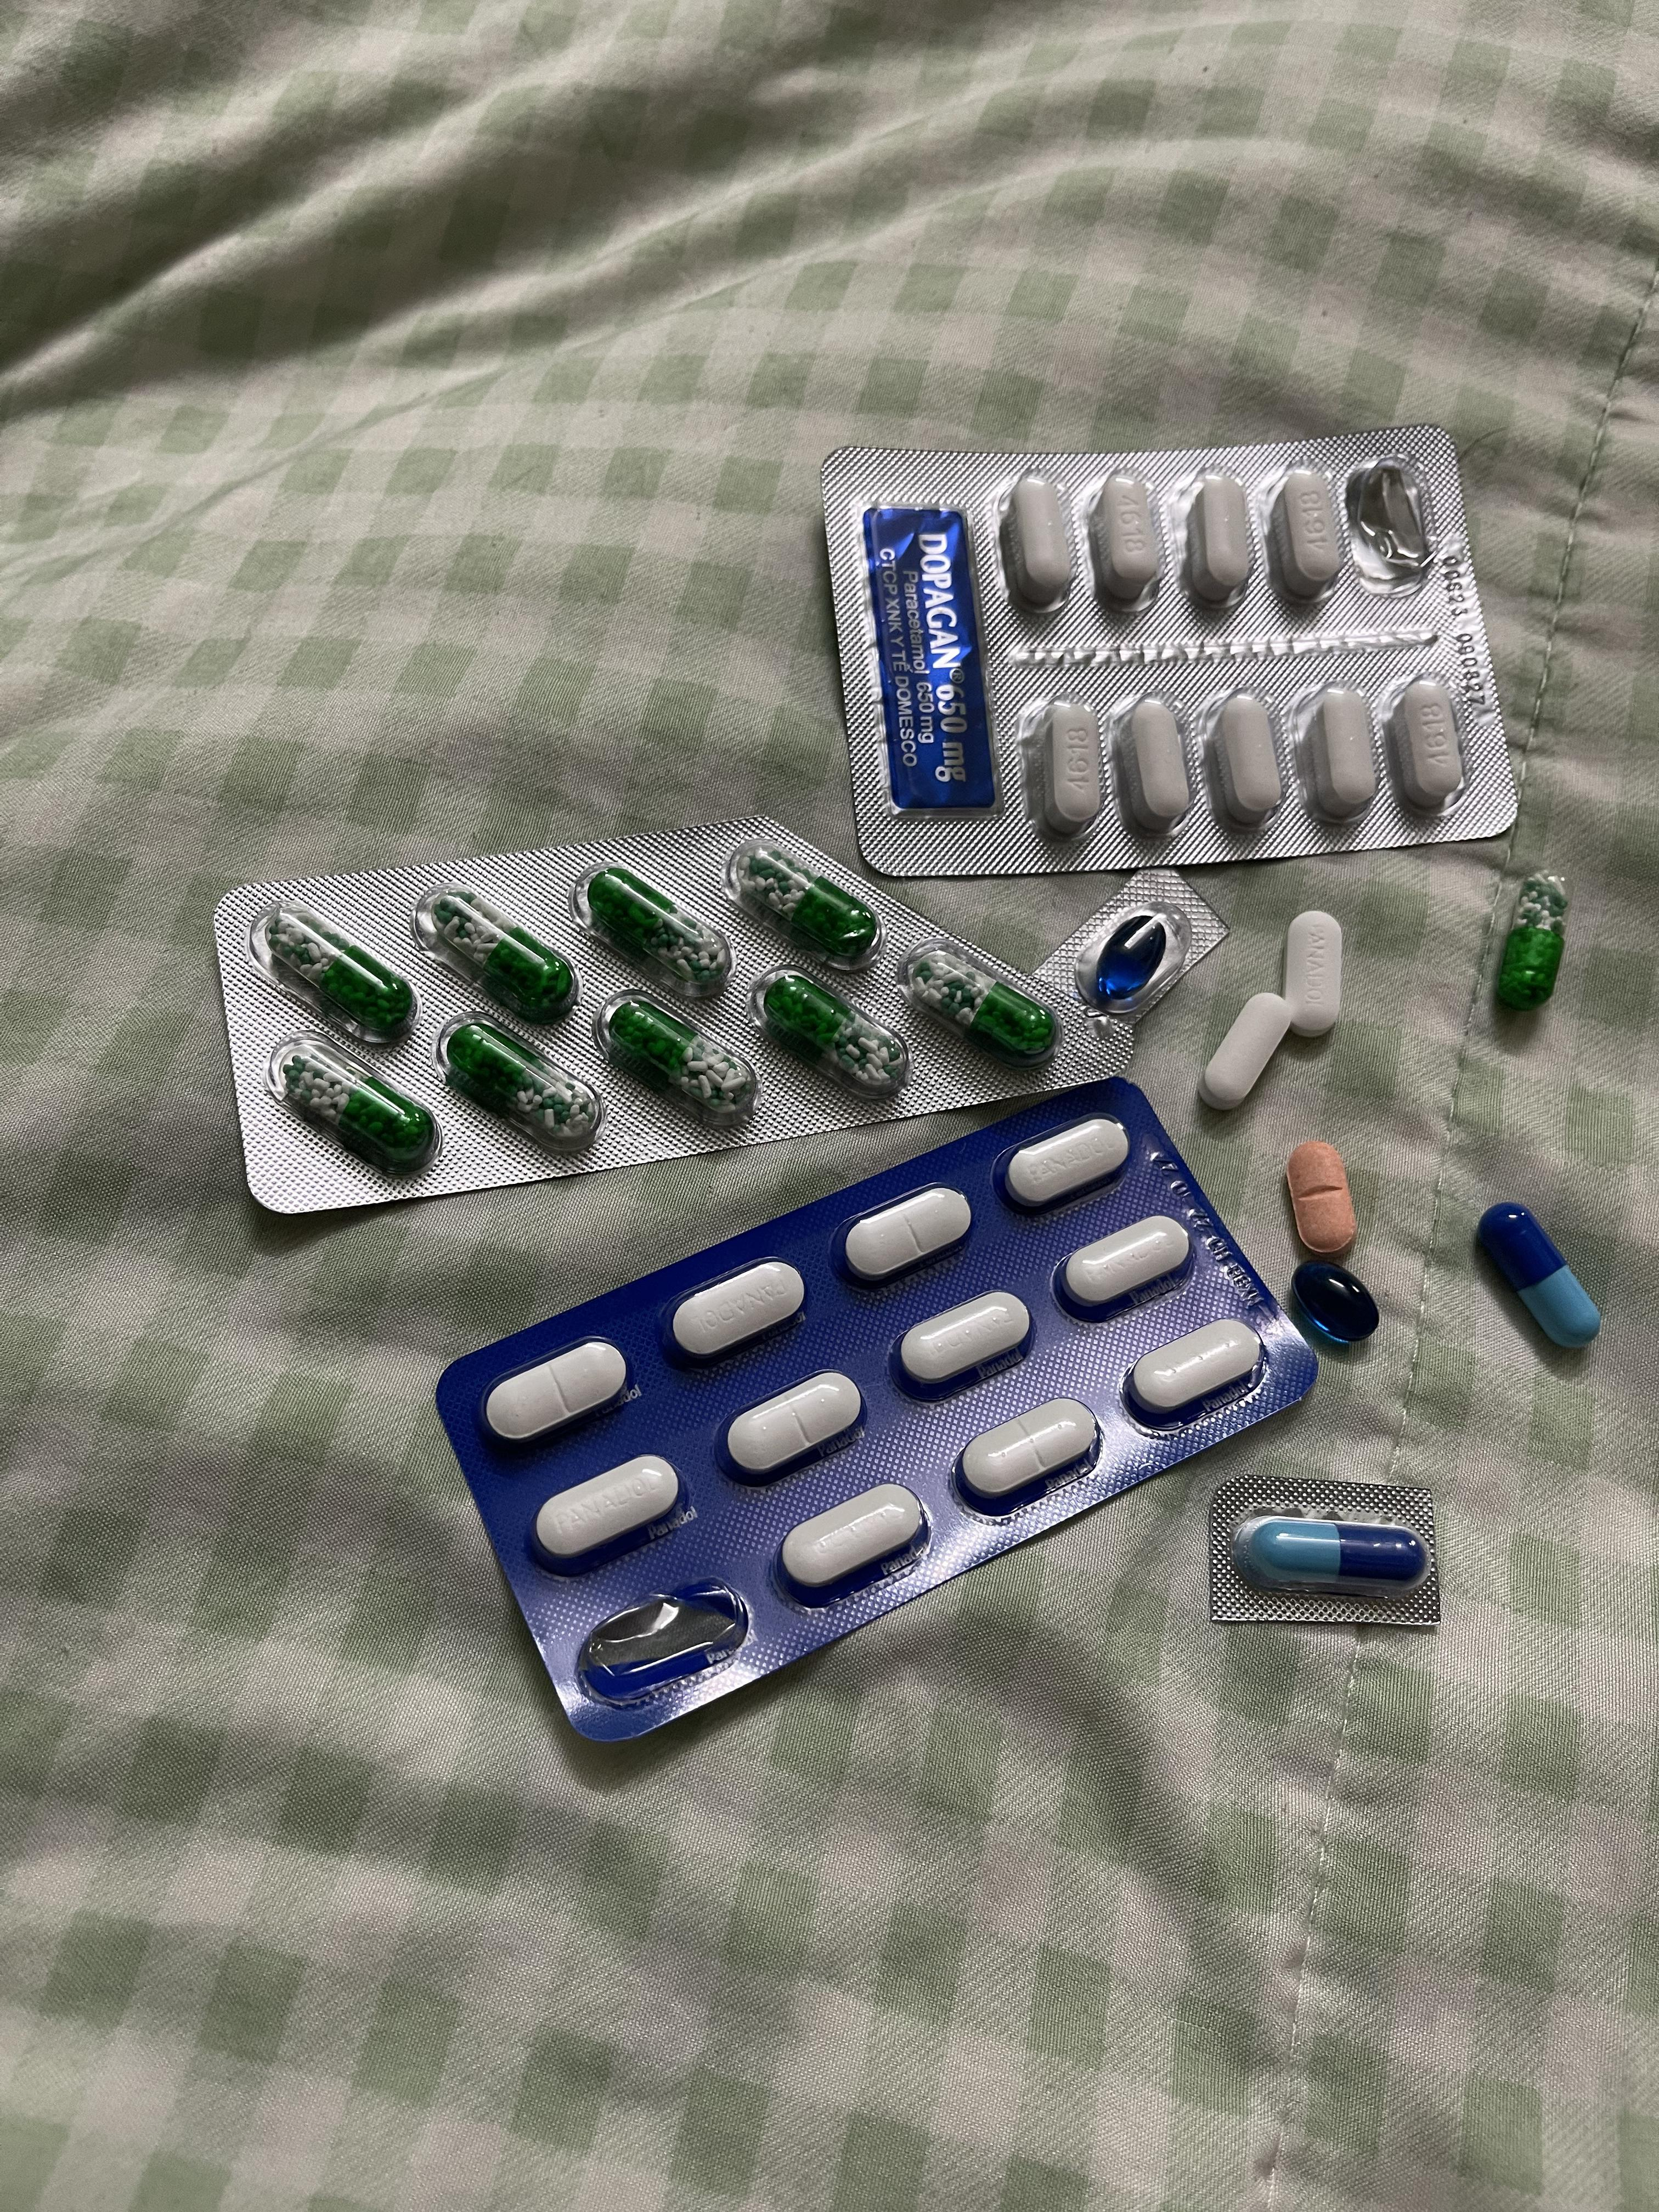Lincomyxin_500mg: (1291, 1259, 1384, 1345), (1096, 911, 1171, 1000)
Loratadine_10mg: (1286, 1144, 1361, 1256)
Paracetamol_350mg: (533, 1456, 687, 1571), (481, 1339, 629, 1451), (779, 1486, 922, 1594), (725, 1371, 863, 1480), (958, 1404, 1096, 1510), (669, 1259, 807, 1364), (897, 1289, 1033, 1392), (1126, 1317, 1262, 1416), (843, 1183, 972, 1285), (1054, 1214, 1185, 1313), (1000, 1115, 1126, 1209), (1283, 909, 1345, 1038)
Paracetamol_500mg: (1295, 681, 1380, 822), (1014, 698, 1100, 834), (1114, 693, 1195, 831), (1201, 991, 1295, 1109), (1208, 691, 1286, 829), (1389, 678, 1469, 812), (1000, 472, 1075, 611), (1087, 469, 1164, 603), (1269, 467, 1345, 601), (1187, 472, 1256, 604)
Paracetamol_650mg: (603, 989, 758, 1109), (587, 866, 737, 986), (434, 894, 573, 1015), (270, 907, 408, 1029), (765, 975, 906, 1094), (444, 1024, 587, 1141), (282, 1047, 429, 1160), (913, 951, 1051, 1059), (742, 845, 866, 951), (1493, 871, 1570, 1008)
pill: (1478, 1200, 1603, 1348), (1237, 1517, 1431, 1597)
